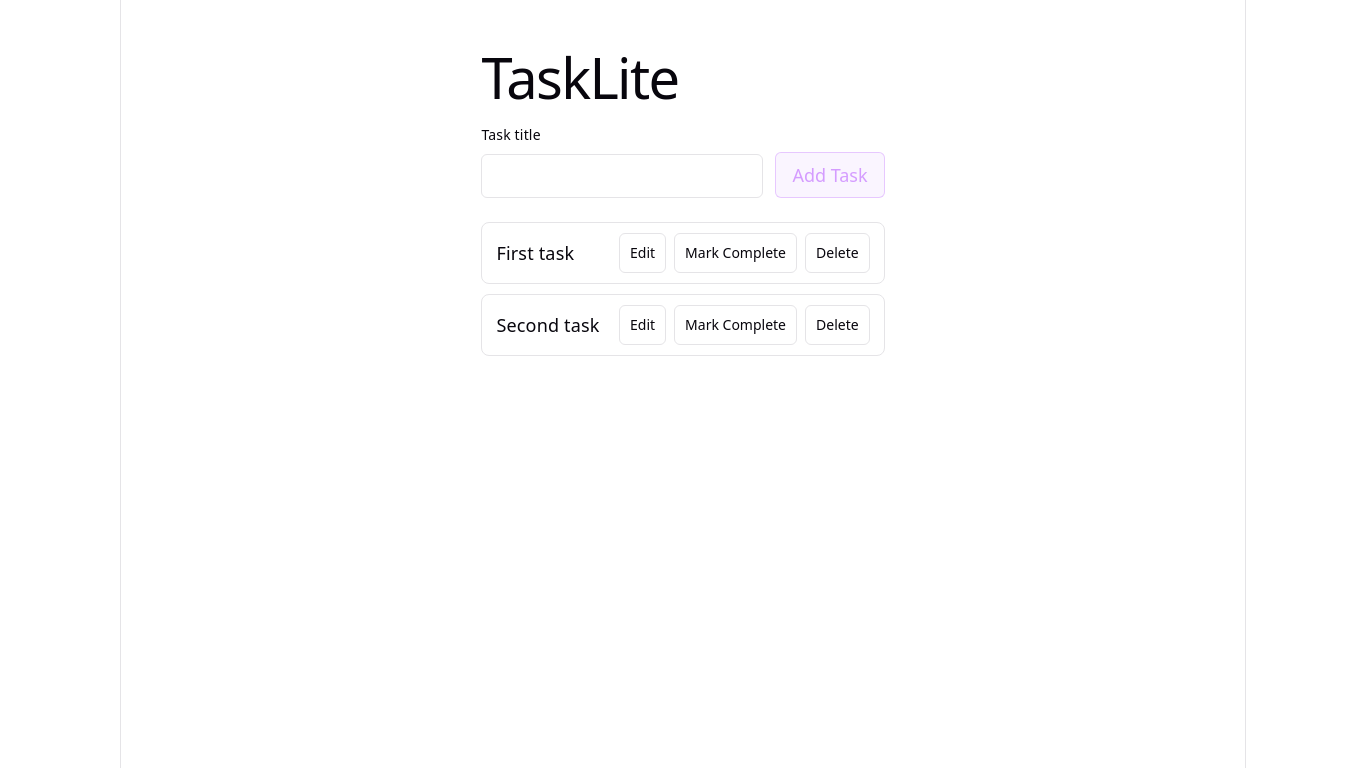
Test: EPMCDMETST-66637 – enter edit mode from task list › AC3: only one task can be in edit mode at a time
Step 1. Click the button with aria-label "edit task" → (643, 253), box x1=619 y1=233 x2=666 y2=273
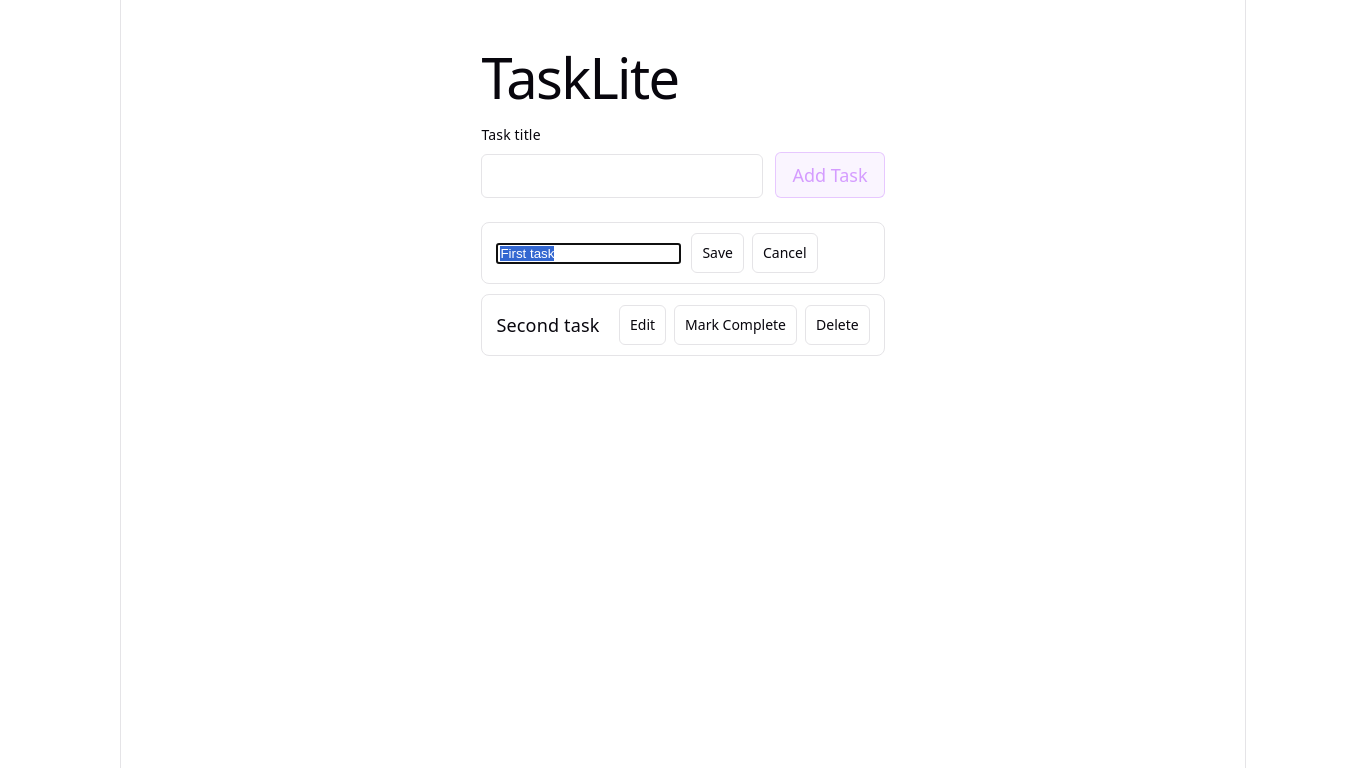
Expected: the number of fields named "edit task title" is 1, x1=496 y1=243 x2=681 y2=264
Expected: the field named "edit task title" holds "First task", x1=496 y1=243 x2=681 y2=264
Step 2. Click the button with aria-label "edit task" → (643, 325), box x1=619 y1=305 x2=666 y2=346
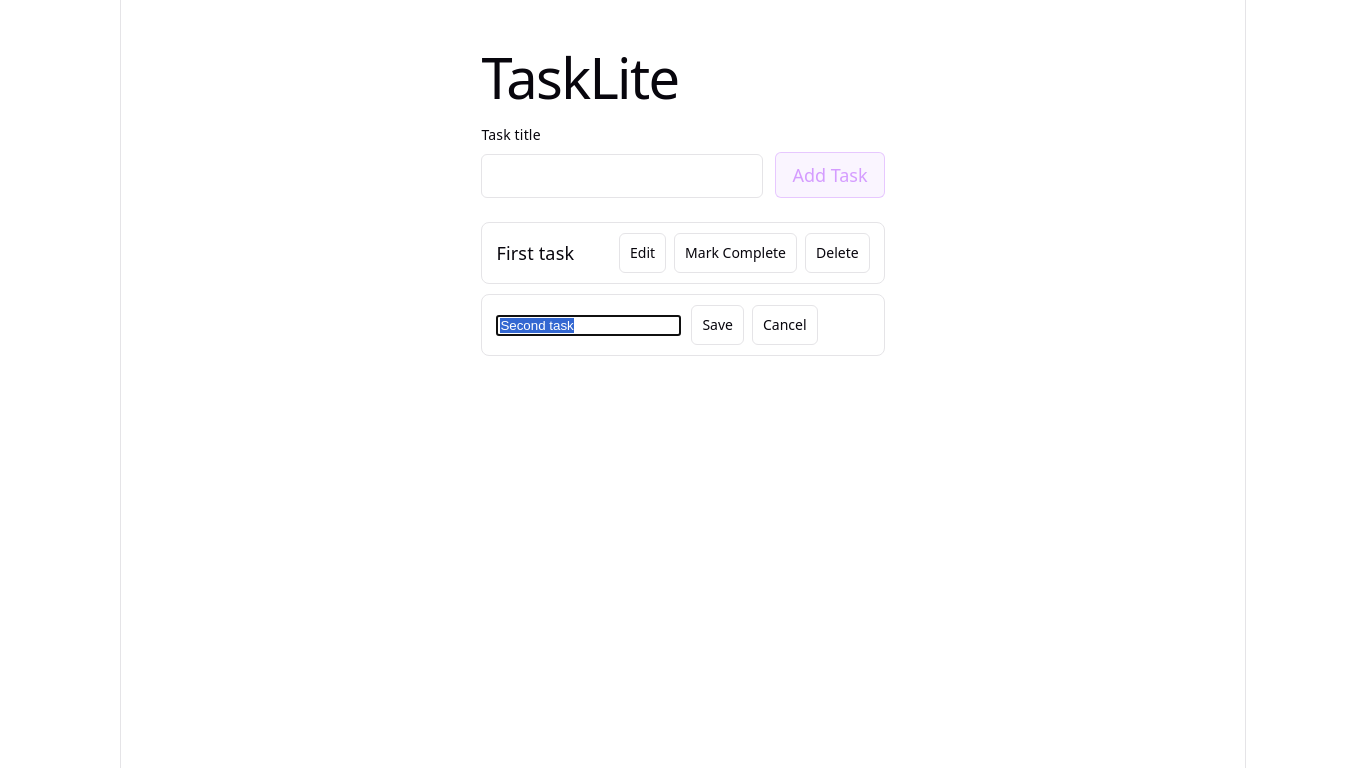
Expected: the number of fields named "edit task title" is 1, x1=496 y1=315 x2=681 y2=336
Expected: the field named "edit task title" holds "Second task", x1=496 y1=315 x2=681 y2=336
